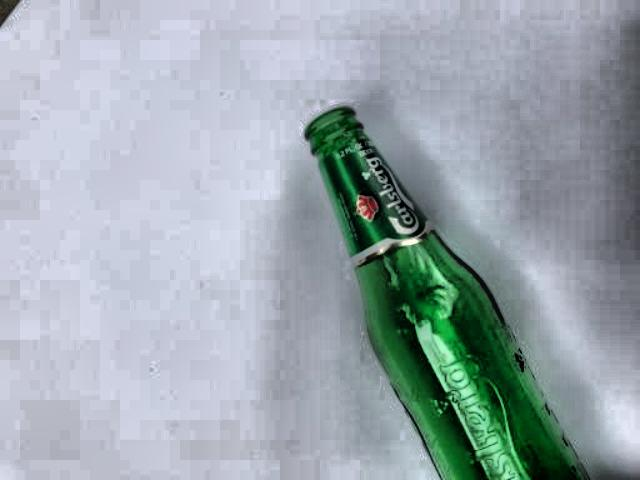Bottles: (256, 71, 618, 480)
